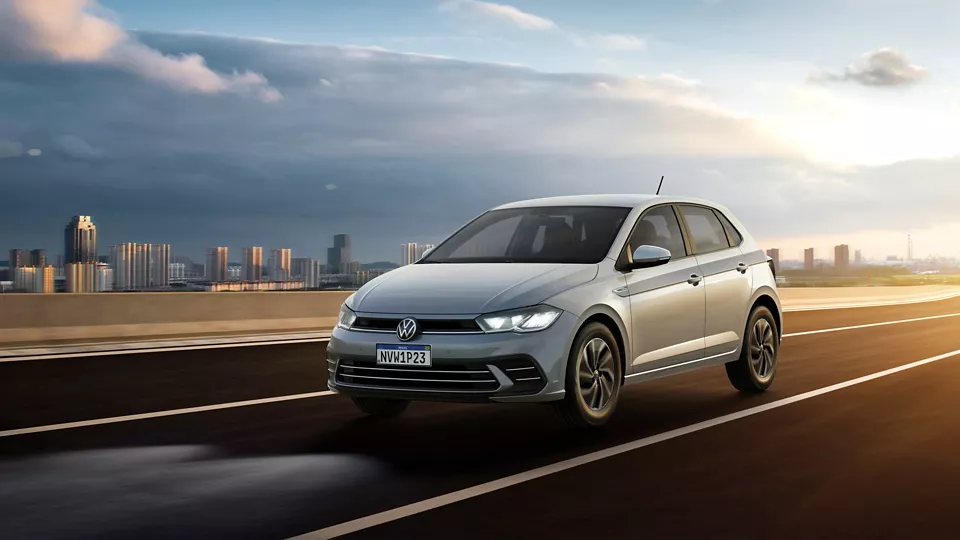car: (326, 184, 789, 428)
car_plate: (374, 343, 431, 368)
